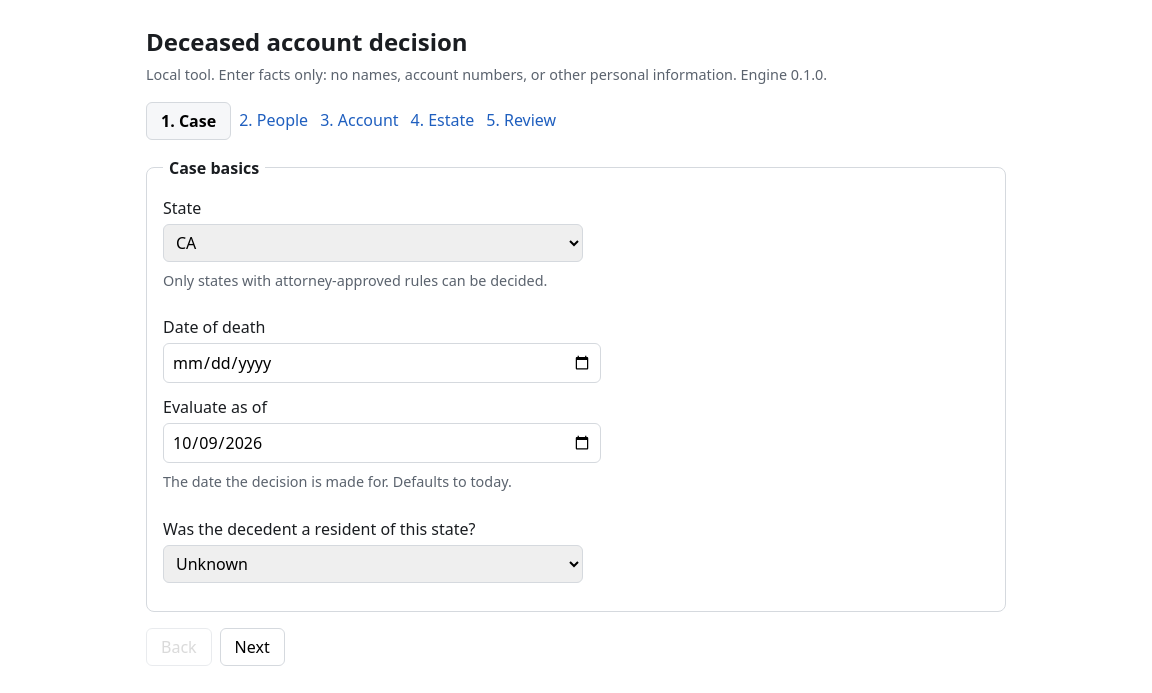
Scenario: a not-determinable result explains why and what to do next
Click the button "5. Review": [521, 120] box [482,102,560,138]
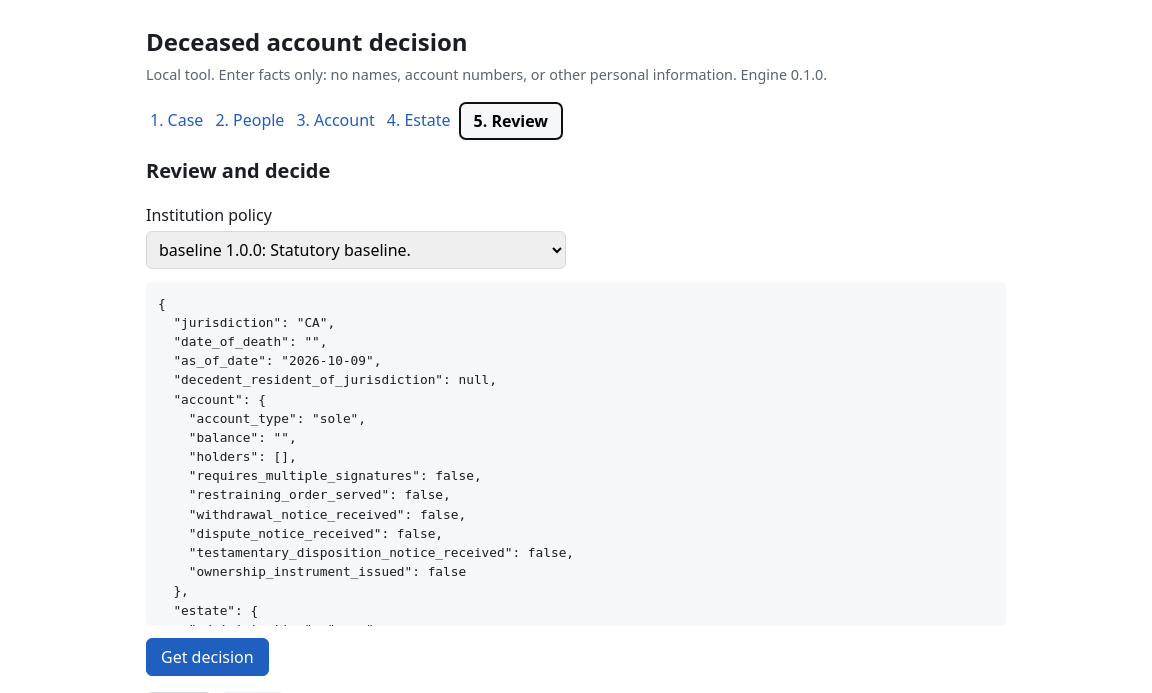
Click the button "Get decision": [207, 657] box [146,638,269,676]
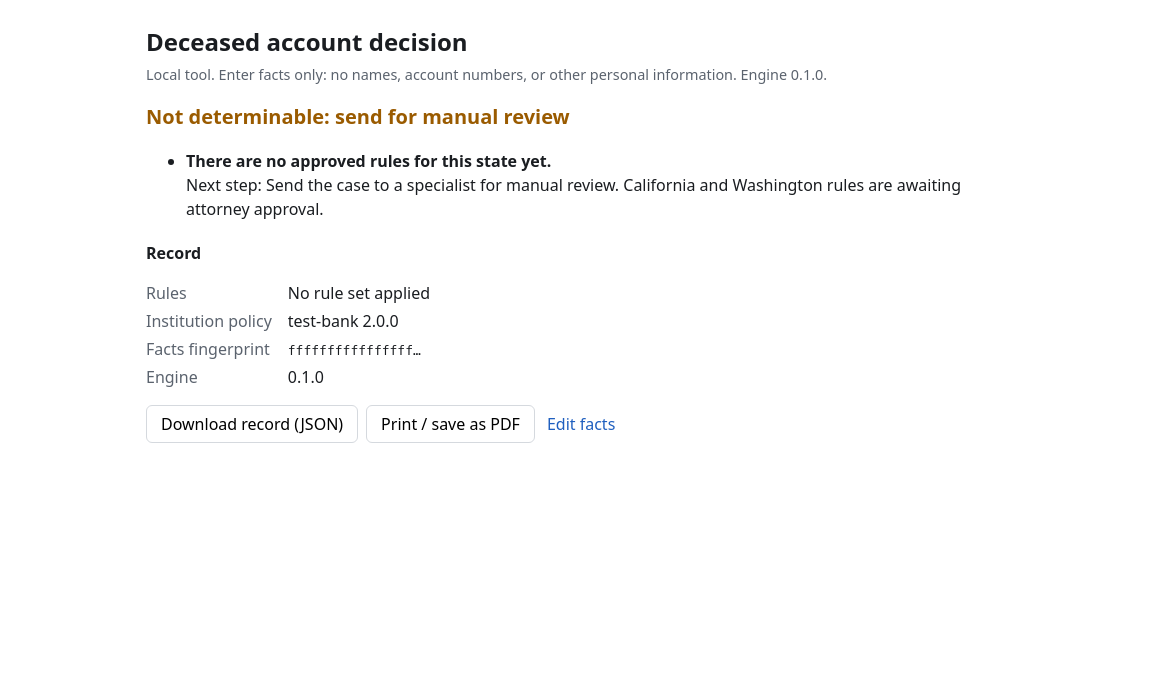
Check: the text "There are no approved rules for this state yet." is shown, box [186,150,551,172]
Check: the list item "Next step: Send the case to a specialist" is shown, box [186,149,1006,221]
Check: the text "No rule set applied" is shown, box [288,282,430,304]
